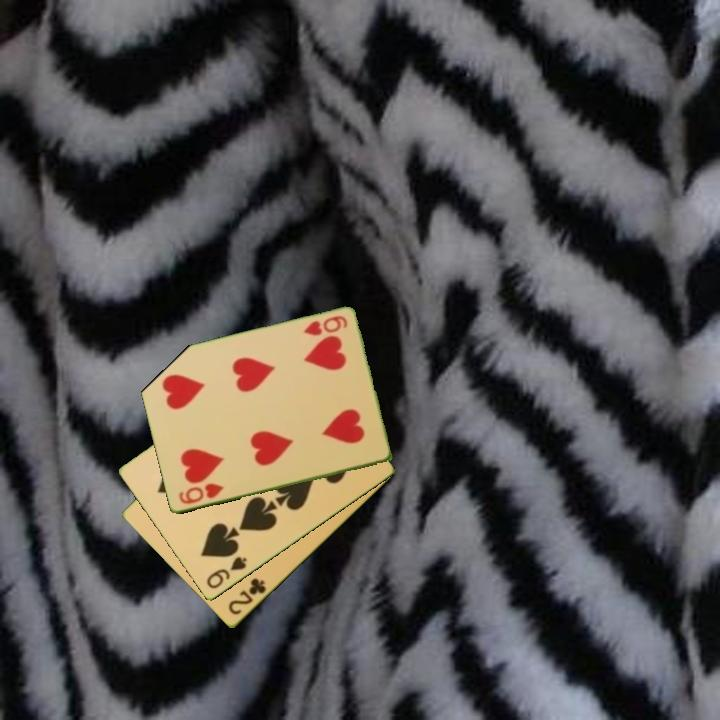2c: (225, 575, 269, 618)
6h: (175, 480, 227, 507), (300, 312, 350, 339)
9s: (203, 553, 250, 592)
